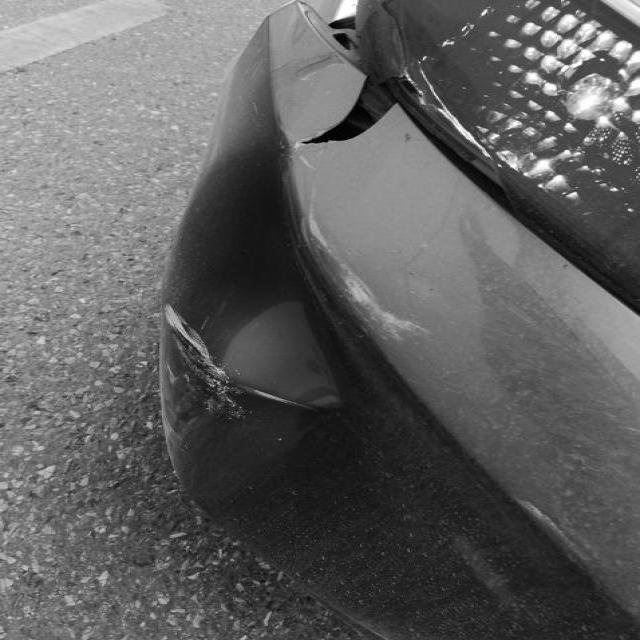Dent: (162, 312, 242, 415), (296, 151, 315, 168), (250, 100, 260, 115), (479, 6, 492, 17), (402, 132, 409, 140)
